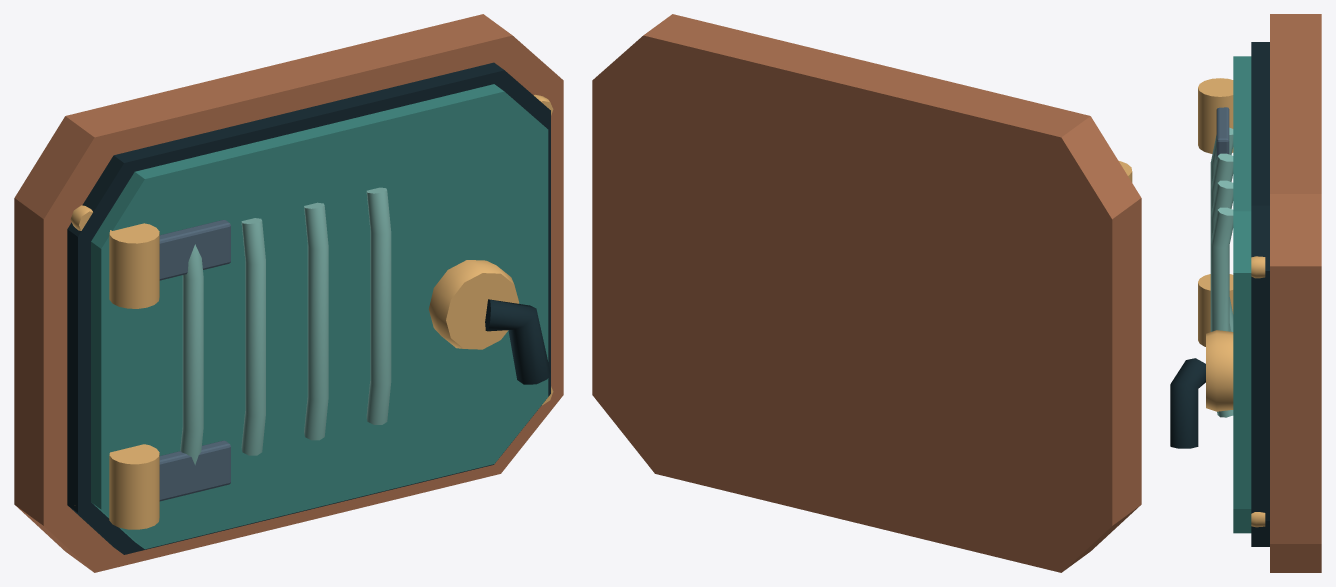
The picture shows the model from 3 angles, left to right: view 1: azimuth 30°, elevation 25°; view 2: azimuth 150°, elevation 25°; view 3: azimuth 270°, elevation 25°; orthographic projection. The views are drawn at different scales.
Parts seen in each view (by area): view 1: PR138 enamel and hardware; view 2: PR138 enamel and hardware; view 3: PR138 enamel and hardware.
Boxes of the visible parts, <box> form: PR138 enamel and hardware: <box>14,14,563,572</box>; PR138 enamel and hardware: <box>592,14,1141,572</box>; PR138 enamel and hardware: <box>1170,14,1321,572</box>.
Size of the model in its own units: 1.14 by 0.9129 by 0.326.
